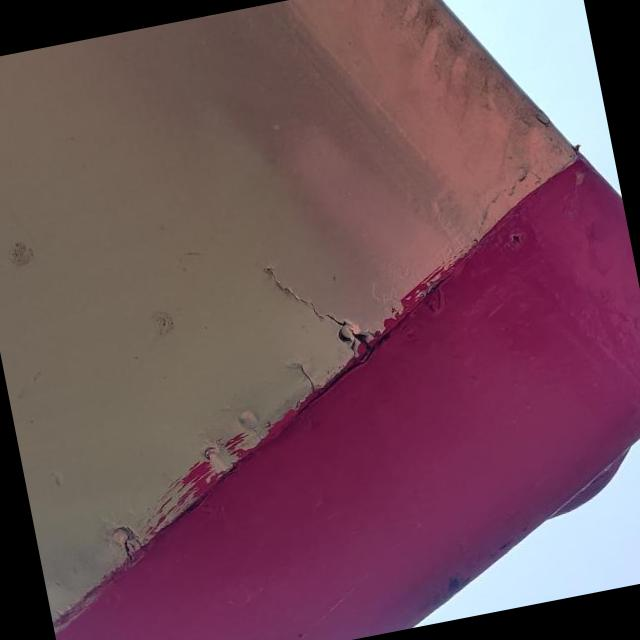Crack: (324, 314, 376, 358), (287, 358, 322, 392), (112, 527, 142, 564)
